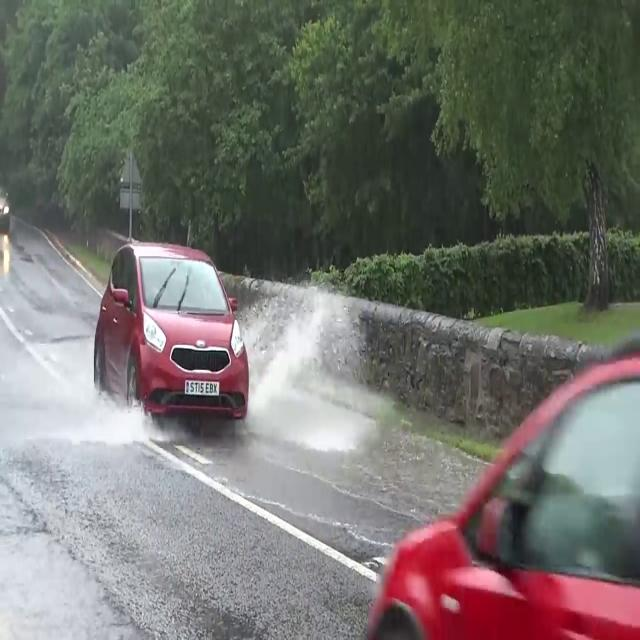license-plate-annotation: (180, 378, 224, 400)
